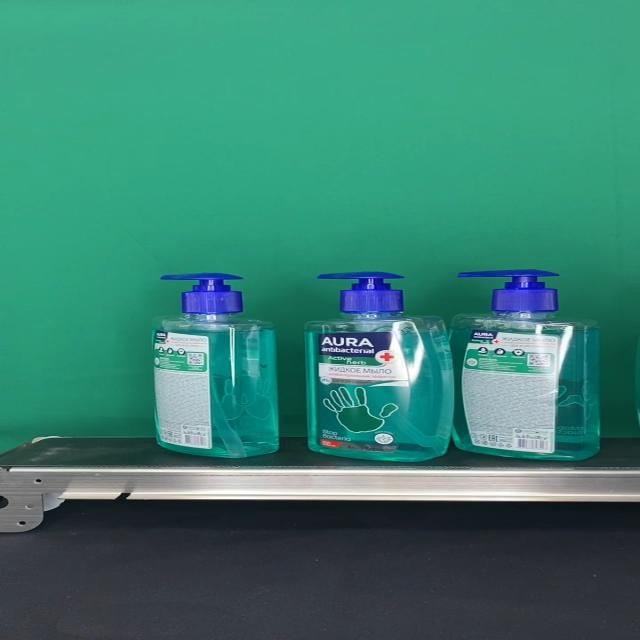Bottle: (448, 269, 598, 461), (305, 272, 454, 462), (150, 272, 280, 458)
Cap: (457, 270, 559, 313), (315, 272, 405, 313), (160, 272, 243, 313)
